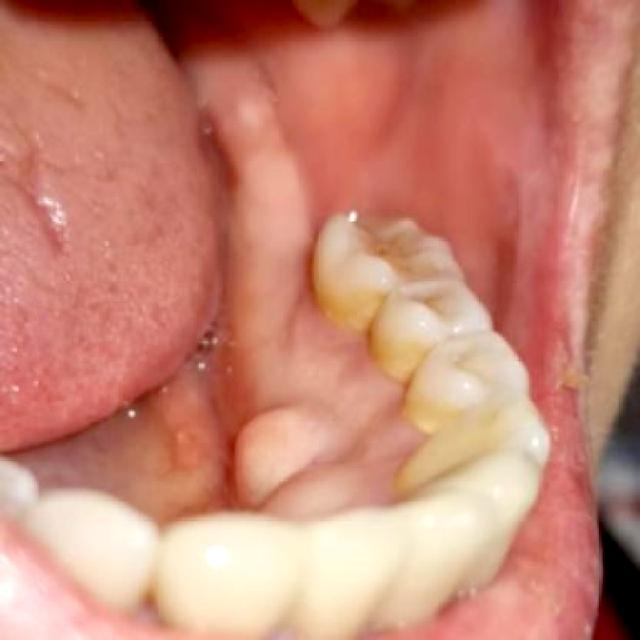Plaque: (288, 274, 427, 470), (370, 224, 423, 278), (412, 289, 450, 322)
